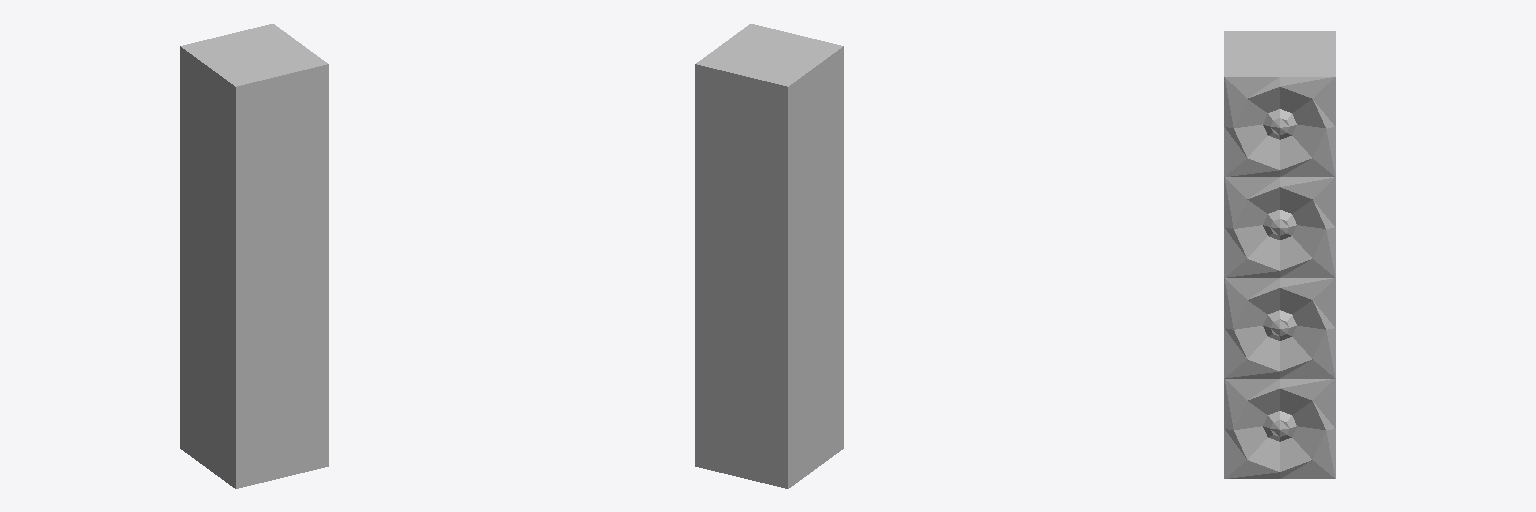
File: speaker_tower.obj
3 renders of one model, left to right at view 1: azimuth 30°, elevation 25°; view 2: azimuth 150°, elevation 25°; view 3: azimuth 270°, elevation 25°, orthographic.
Visible parts, largest first — view 1: Cube; view 2: Cube; view 3: Cube.
Part boxes in pixels (left/top/right/bottom): Cube: left=180, top=24, right=328, bottom=488; Cube: left=695, top=24, right=843, bottom=488; Cube: left=1224, top=31, right=1335, bottom=478.
Bounding box in the file's own units: 2 × 8 × 2.